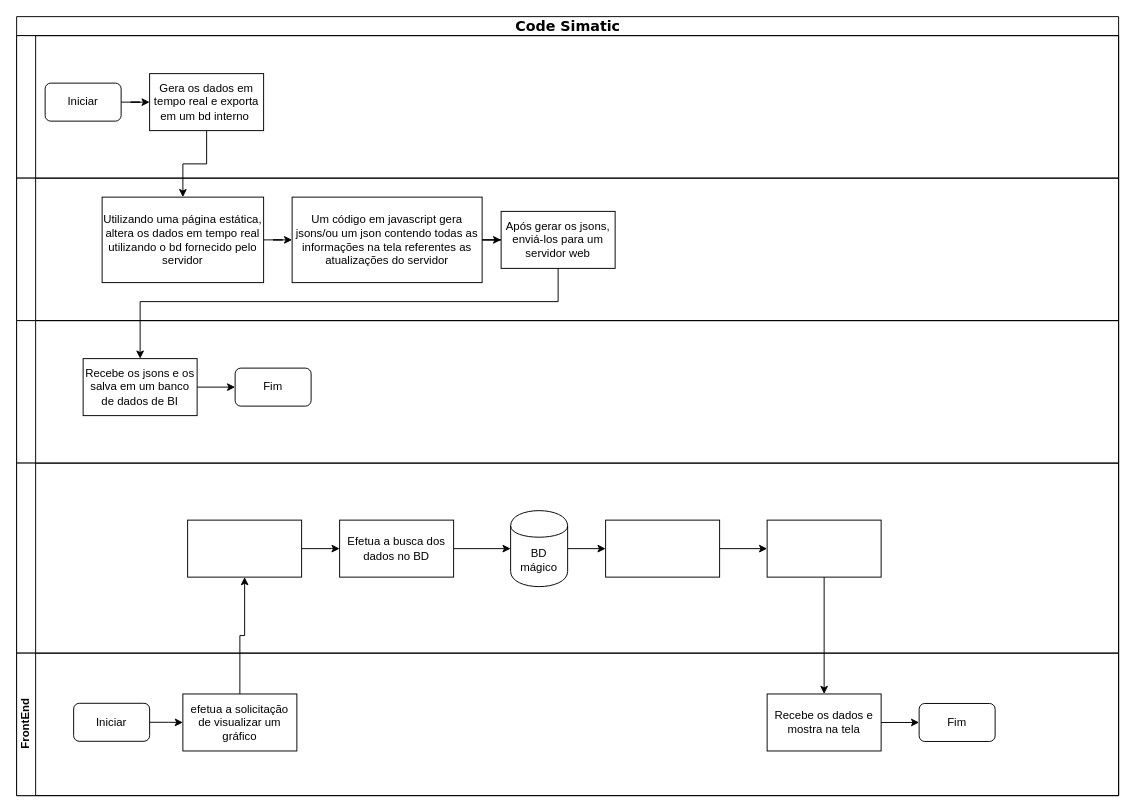
The diagram is 1135 pixels wide and 812 high, and some of its shapes have lost their labels. Each missing label, with the box of its shape:
Envia os dados via REST: (766, 519, 881, 577)
Recebe a solicitação via rest: (187, 519, 302, 577)
Recebe os dados do BD: (605, 519, 720, 577)
S7-12000: (16, 35, 1119, 178)
Servidor Exporta Dados BI: (16, 462, 1119, 653)
Servidor Recebe Json: (16, 320, 1119, 463)
WebServer S7-12000: (16, 177, 1119, 321)
